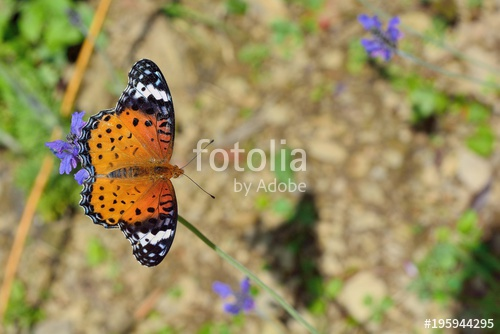Argyreus hyperbius: (70, 55, 217, 269)
butterfly: (72, 57, 219, 271)
